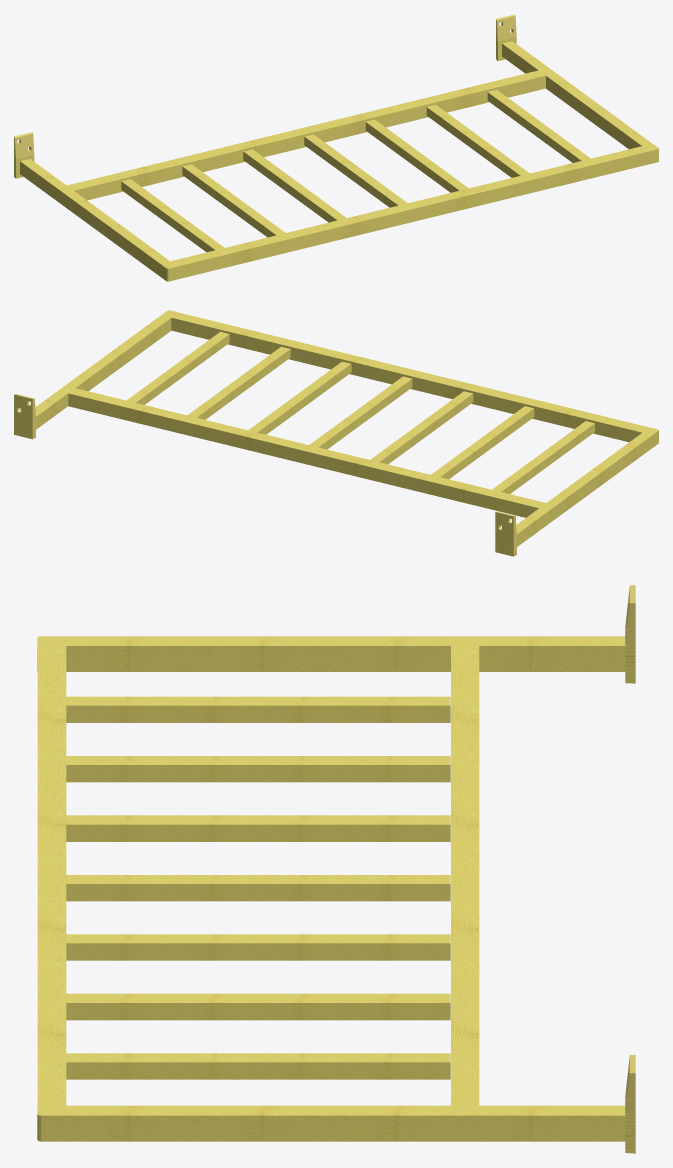
File: fense_a.glb
The picture shows the model from 3 angles, top to bottom: view 1: azimuth 30°, elevation 25°; view 2: azimuth 150°, elevation 25°; view 3: azimuth 270°, elevation 25°; orthographic projection. The views are drawn at different scales.
Parts seen in each view (by area): view 1: fense_a; view 2: fense_a; view 3: fense_a.
Boxes of the visible parts, left/top/right/bottom form: fense_a: left=14, top=14, right=658, bottom=281; fense_a: left=14, top=310, right=658, bottom=556; fense_a: left=37, top=585, right=635, bottom=1153.
Size of the model in its own units: 2.75 by 0.211 by 1.42.
Materials: 1 (1 with a texture image).
